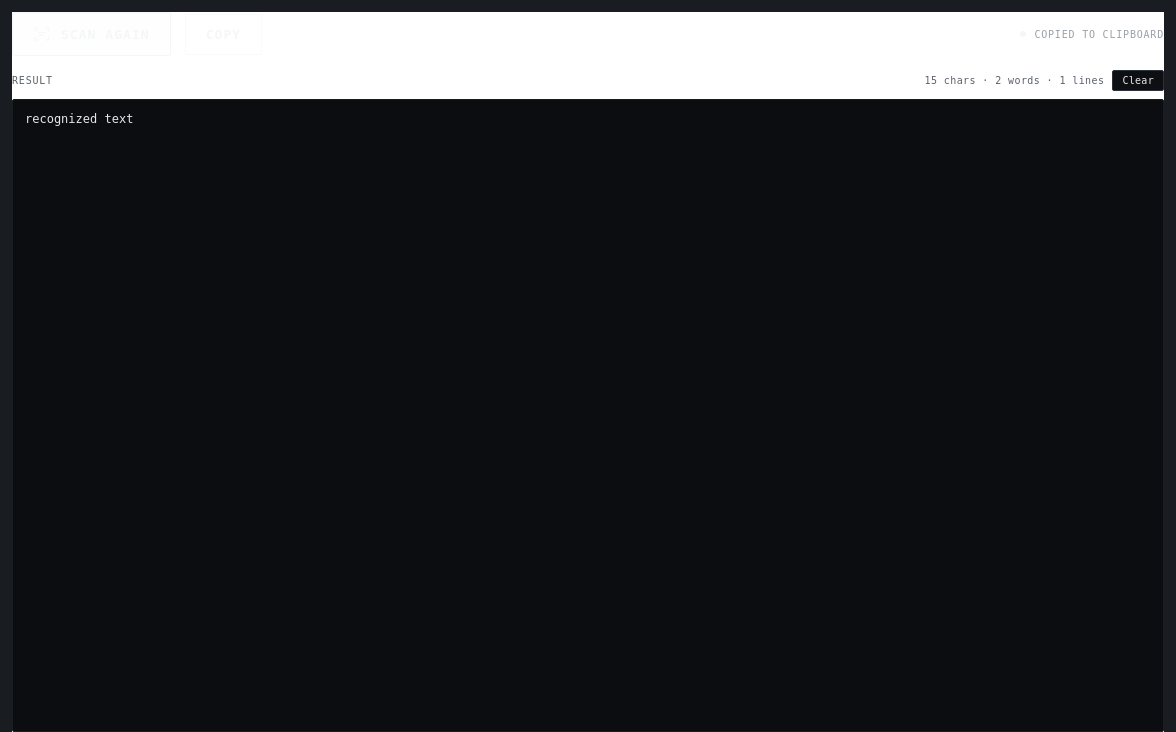
Test: OcrPanel clearing › keeps the scan when the prompt is dismissed
Click the button "Clear".
click(1138, 80)  # box [1112,70,1164,91]
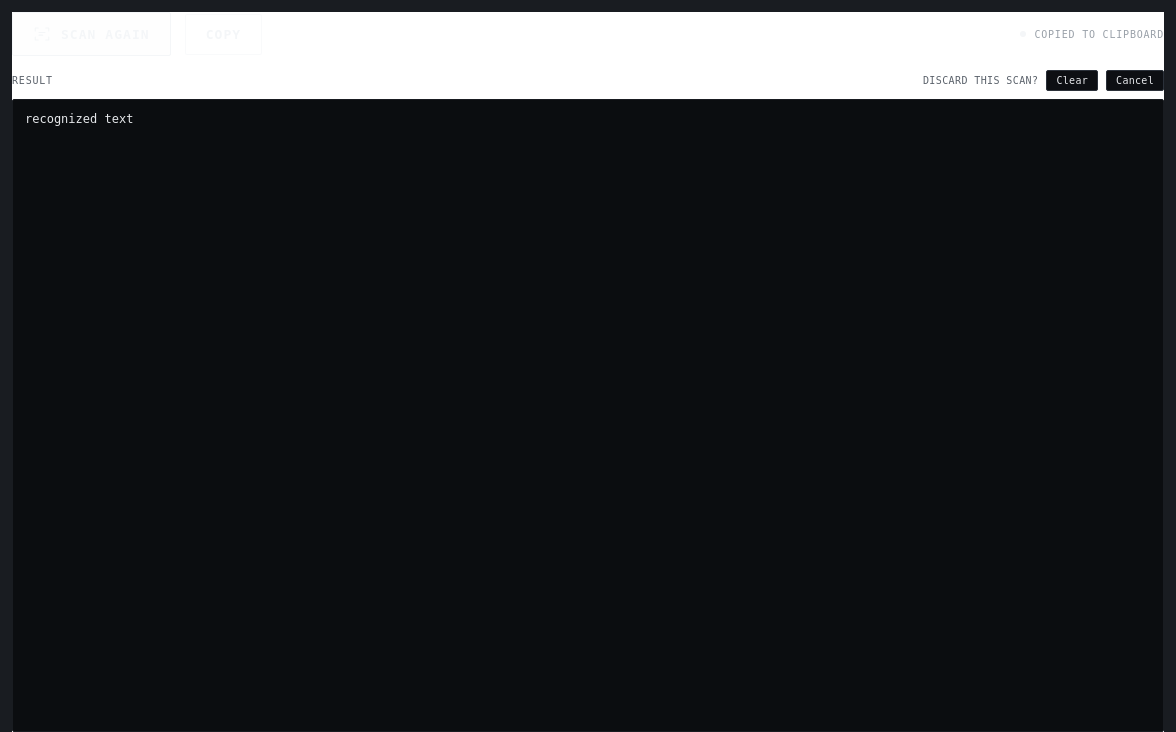
Click the button "Cancel".
click(1135, 80)  # box [1106,70,1164,91]
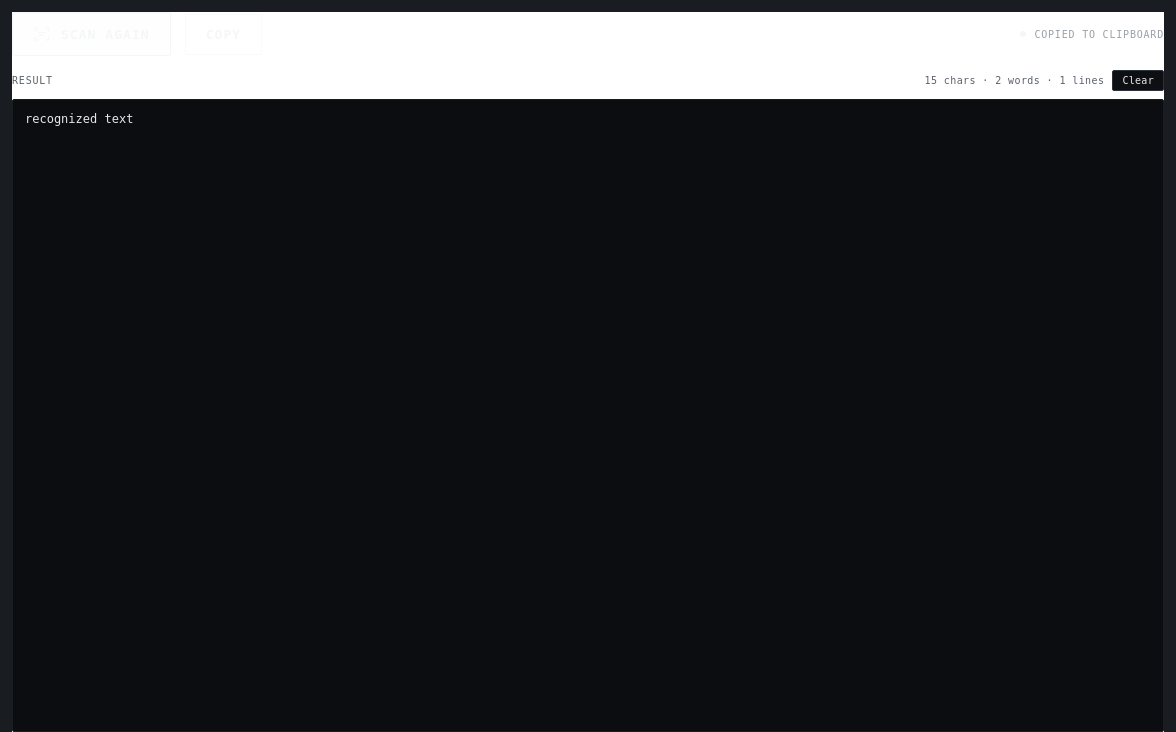
Expected: the text "DISCARD THIS SCAN?" is gone
